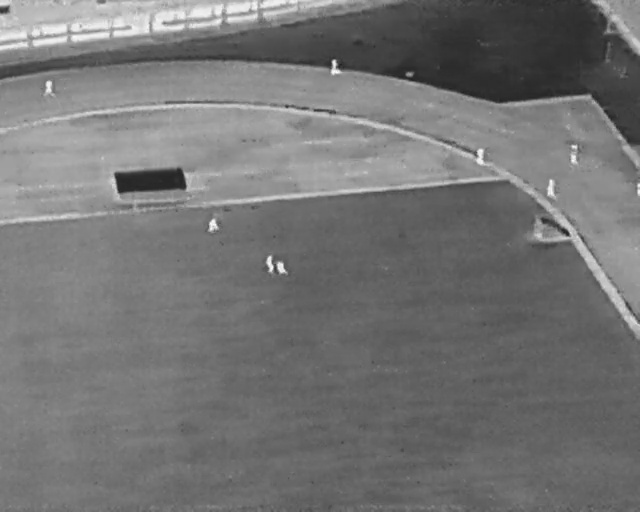Person: (272, 259, 289, 277), (43, 80, 56, 98), (569, 144, 579, 166), (547, 178, 557, 198), (331, 58, 342, 75), (207, 218, 219, 233), (266, 255, 274, 273), (476, 148, 484, 165), (636, 181, 640, 197)
